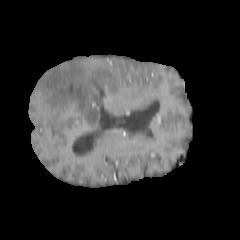glioma: (38, 61, 119, 130)
